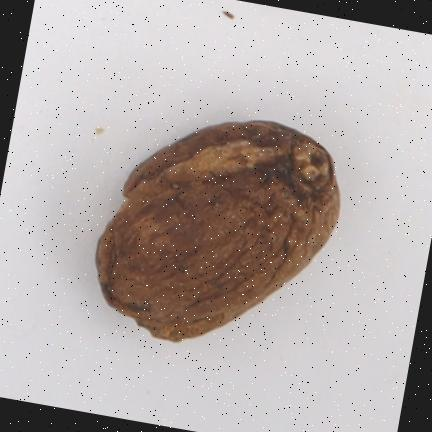husk: (96, 121, 339, 341)
